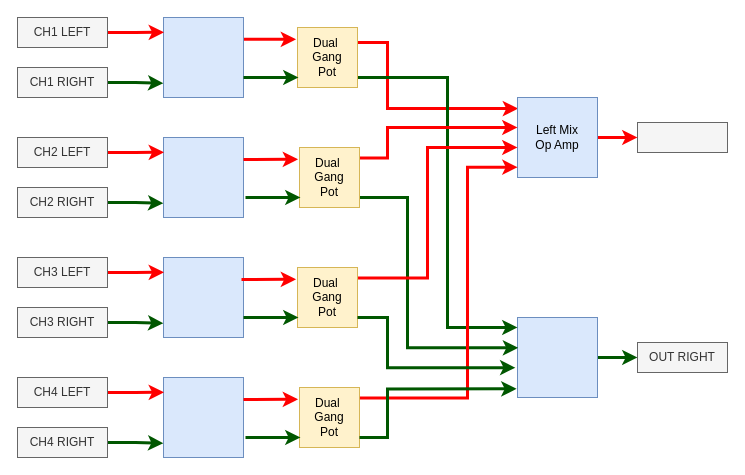
Some shapes in this 745 by 475 pixel diagram are drawn without their labels. The shapes that lost their labels are listed below. From the top down, each one's centre as x and y in pixels, then its label:
At (203,57): "CH1 Op Amp".
At (682,137): "OUT LEFT".
At (203,177): "CH2 Op Amp".
At (203,297): "CH3 Op Amp".
At (557,357): "Right Mix Op Amp".
At (203,417): "CH4 Op Amp".
